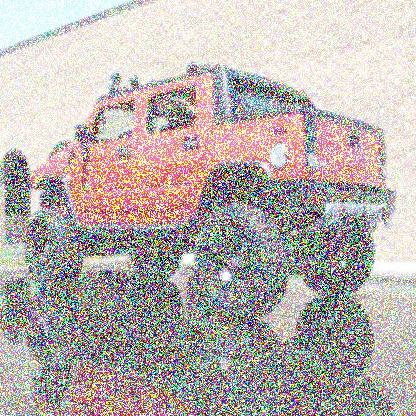Vehicle: (24, 62, 394, 320)
